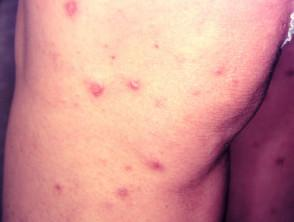Eczema: (77, 76, 113, 104), (121, 73, 144, 101), (47, 181, 83, 197), (204, 64, 225, 87), (148, 161, 169, 183), (272, 153, 291, 174), (62, 1, 80, 20)
